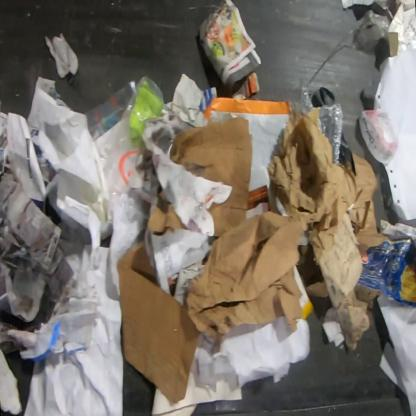cardboard: (186, 211, 303, 351), (118, 242, 202, 404), (170, 117, 253, 236), (356, 238, 415, 307), (351, 149, 385, 253), (145, 182, 193, 240)
rigid_plastic: (84, 75, 164, 193)
soft_plastic: (292, 80, 344, 164), (359, 108, 399, 165), (339, 131, 355, 174), (310, 84, 336, 109)
